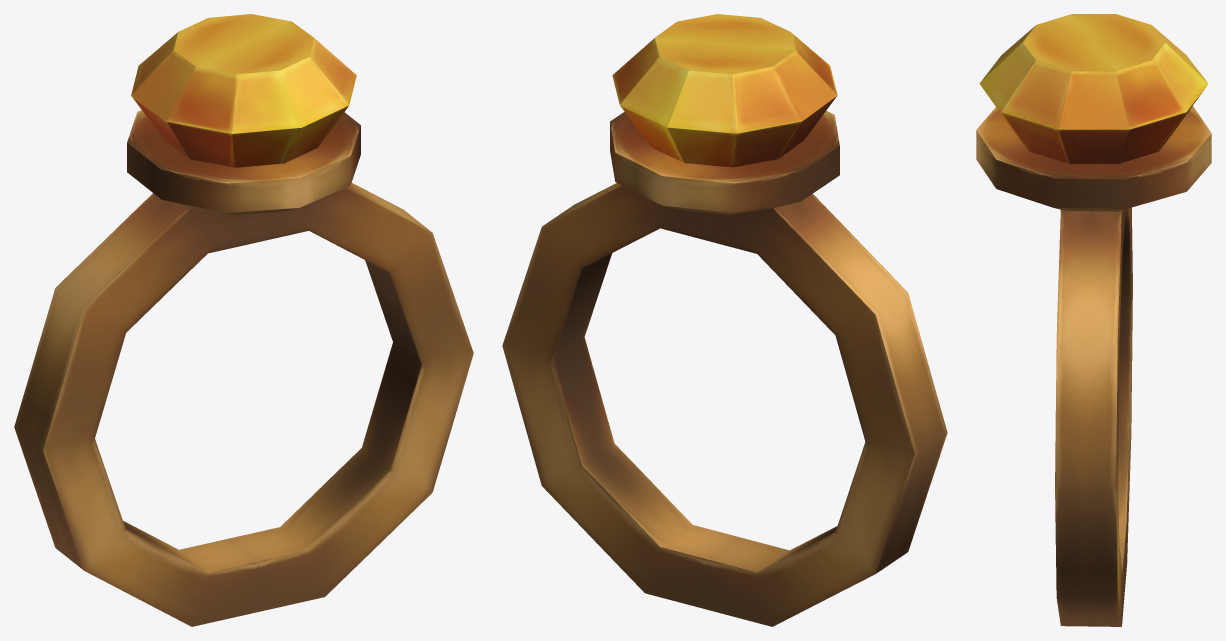
Rendered from ring2.FBX.
3 views of the same model, side by side, from view 1: azimuth 30°, elevation 25°; view 2: azimuth 150°, elevation 25°; view 3: azimuth 270°, elevation 25° (orthographic).
Parts seen in each view (by area): view 1: ring2; view 2: ring2; view 3: ring2.
Part boxes in pixels (x1,y1,x2,y2): ring2: (14,14,473,626); ring2: (502,14,947,626); ring2: (976,14,1211,626).
Bounding box in the file's own units: 32.07 × 40.2 × 15.54.
